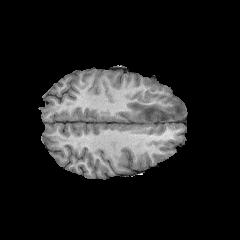glioma: (126, 100, 185, 121)
